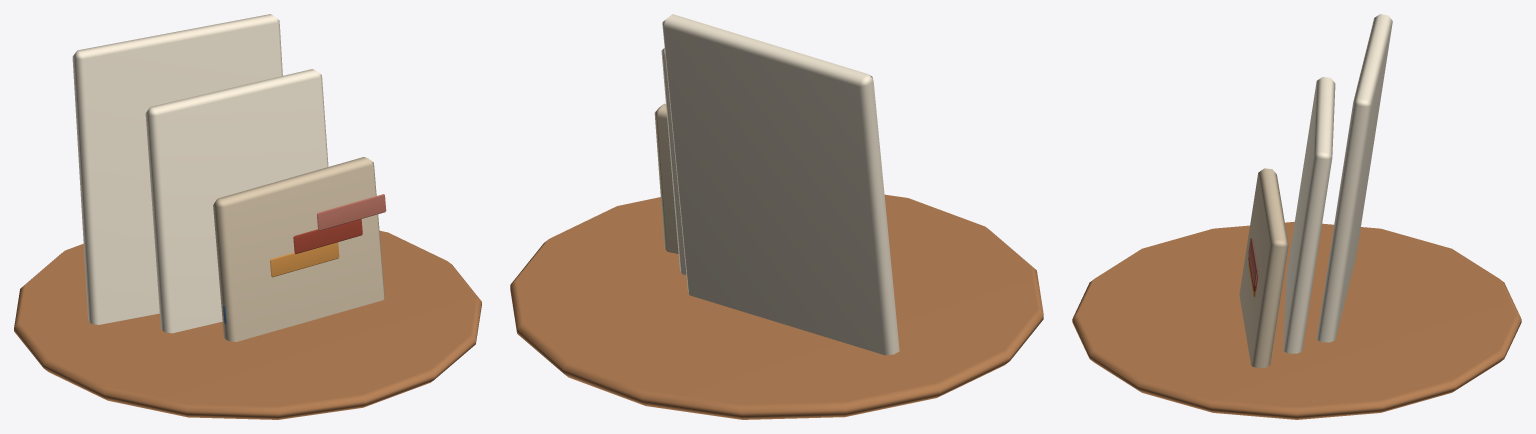
The model's file is canvas.glb.
3 renders of one model, left to right at view 1: azimuth 30°, elevation 25°; view 2: azimuth 150°, elevation 25°; view 3: azimuth 270°, elevation 25°, orthographic. The views are drawn at different scales.
Visible parts, largest first — view 1: Cone, Cube, Cube.001, Cube.002, Cube.007, Cube.006, Cube.005; view 2: Cone, Cube, Cube.002, Cube.001; view 3: Cone, Cube, Cube.001, Cube.002.
Part boxes in pixels (<box>): Cone: <box>14,231,481,419</box>; Cube: <box>72,14,282,324</box>; Cube.001: <box>145,69,328,333</box>; Cube.002: <box>213,157,384,341</box>; Cube.007: <box>317,194,386,230</box>; Cube.006: <box>293,219,362,253</box>; Cube.005: <box>270,242,339,277</box>; Cone: <box>510,194,1043,419</box>; Cube: <box>662,14,899,355</box>; Cube.002: <box>654,103,678,253</box>; Cube.001: <box>661,48,686,275</box>; Cone: <box>1072,221,1521,419</box>; Cube: <box>1316,14,1392,342</box>; Cube.001: <box>1283,77,1335,353</box>; Cube.002: <box>1239,168,1288,367</box>.
Bounding box in the file's own units: 2.18 × 1.37 × 2.18.
